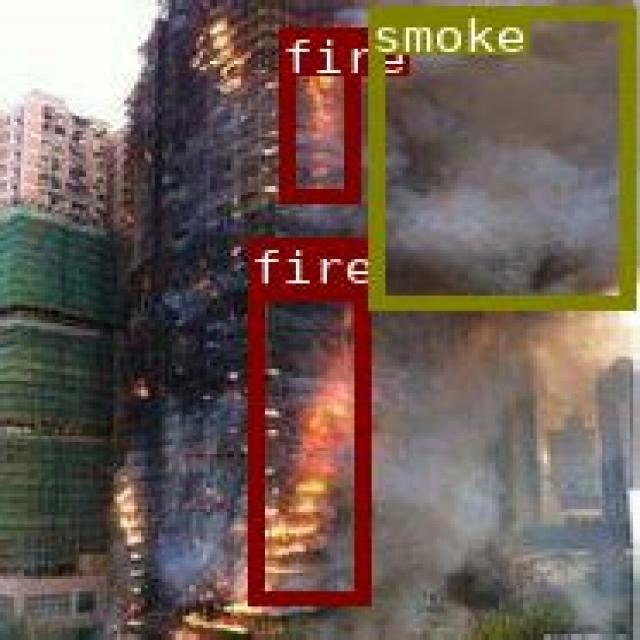fire: (247, 284, 366, 603), (278, 25, 358, 200)
smoke: (366, 4, 632, 305)
